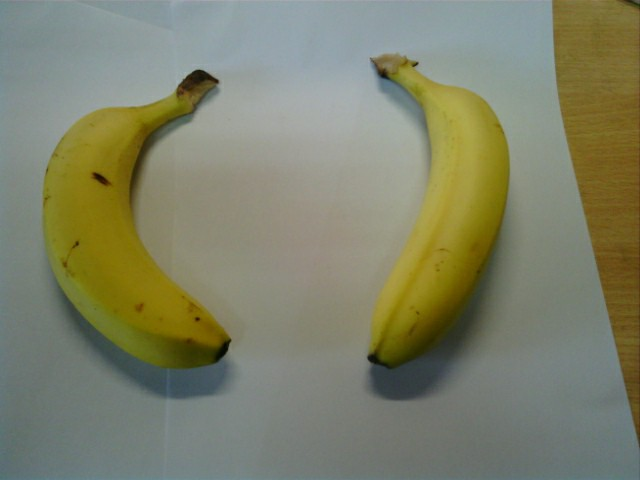fresh_banana: (362, 55, 510, 370)
normal_banana: (44, 79, 227, 373)
